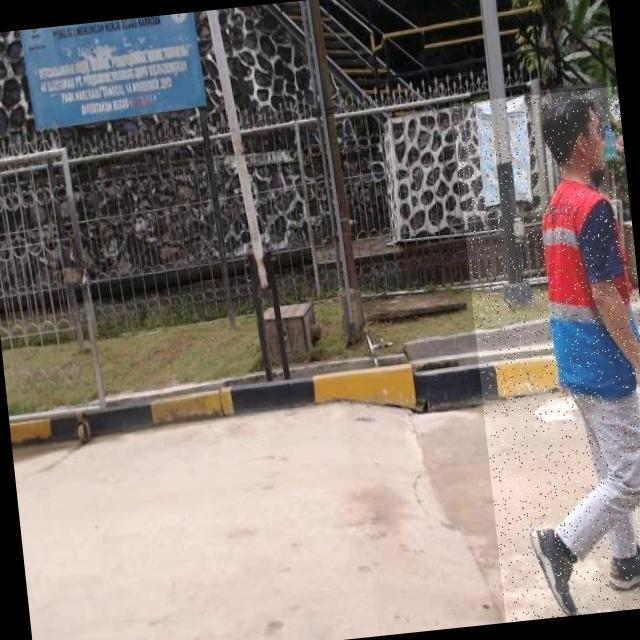Human: (451, 85, 640, 622)
Safety Boot: (528, 519, 582, 619), (602, 542, 640, 596)
Safety Vest: (532, 173, 640, 402)
